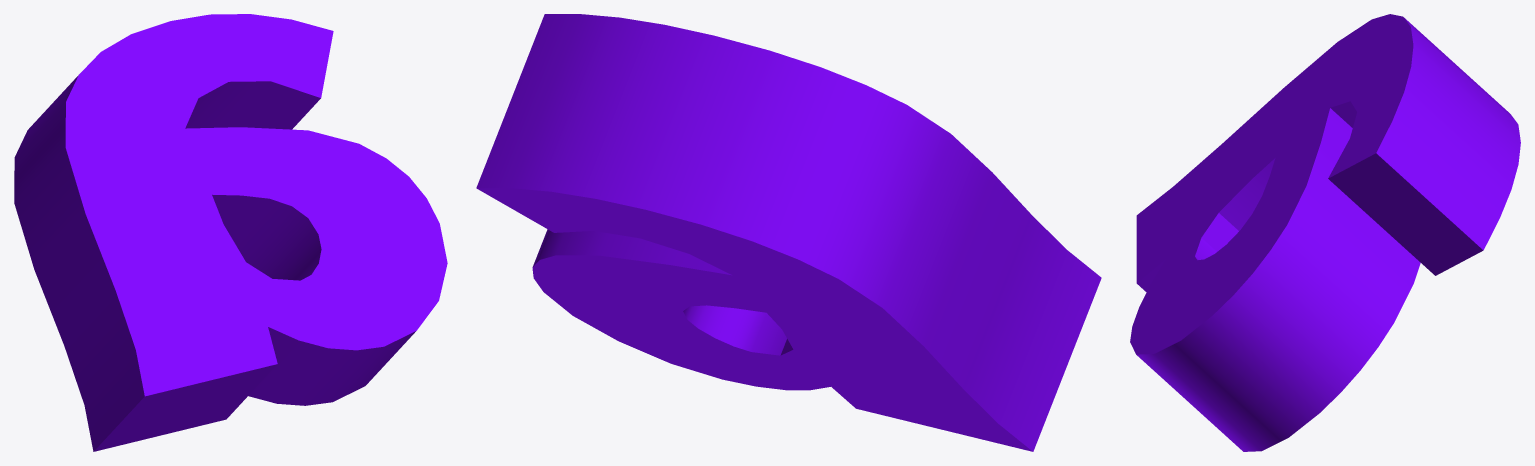
The model's file is original-25.obj.
The picture shows the model from 3 angles, left to right: view 1: azimuth 30°, elevation 25°; view 2: azimuth 150°, elevation 25°; view 3: azimuth 270°, elevation 25°; orthographic projection. The views are drawn at different scales.
Parts seen in each view (by area): view 1: mesh64/mesh64-geometry#mesh64-geometry; view 2: mesh64/mesh64-geometry#mesh64-geometry; view 3: mesh64/mesh64-geometry#mesh64-geometry.
Part boxes in pixels (<box>): mesh64/mesh64-geometry#mesh64-geometry: <box>14,14,447,451</box>; mesh64/mesh64-geometry#mesh64-geometry: <box>476,14,1101,451</box>; mesh64/mesh64-geometry#mesh64-geometry: <box>1130,14,1520,451</box>.
Size of the model in its own units: 0.0117 by 0.0114 by 0.0114.
